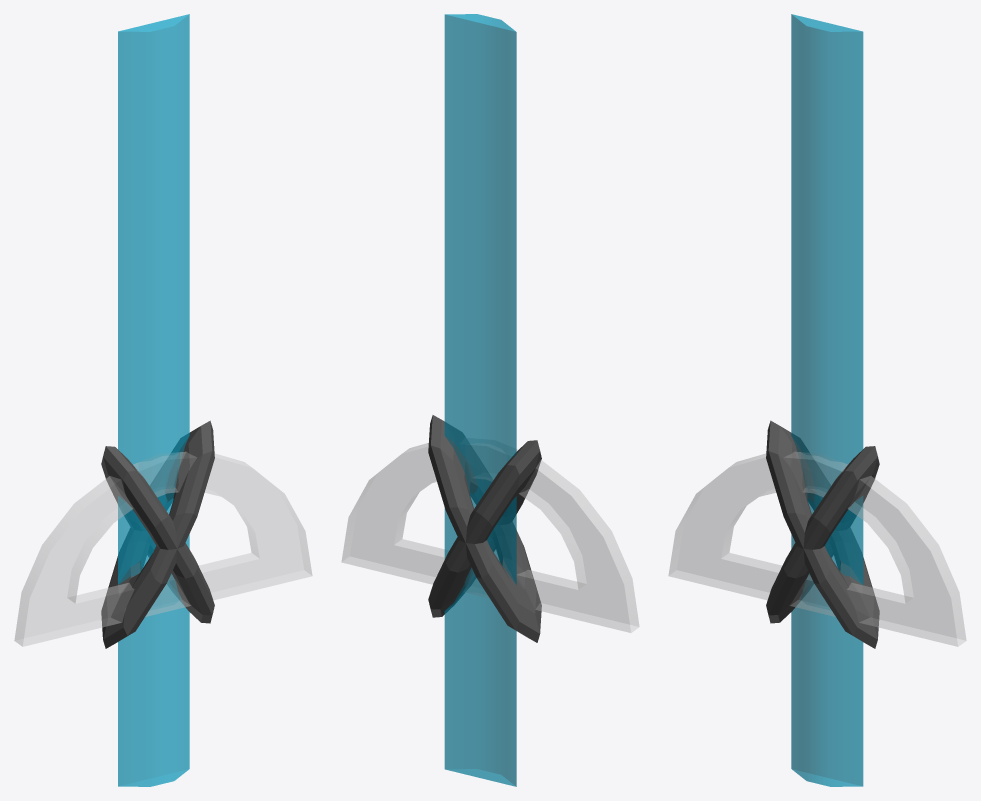
The model's file is RulerSword_Weapon.fbx.
3 renders of one model, left to right at view 1: azimuth 30°, elevation 25°; view 2: azimuth 150°, elevation 25°; view 3: azimuth 330°, elevation 25°, orthographic.
Parts seen in each view (by area): view 1: pCube5; view 2: pCube5; view 3: pCube5.
Boxes of the visible parts, bbox=[...] form: pCube5: bbox=[14, 14, 312, 786]; pCube5: bbox=[341, 14, 639, 786]; pCube5: bbox=[668, 14, 966, 786].
Size of the model in its own units: 3.62 by 9 by 0.8328.
